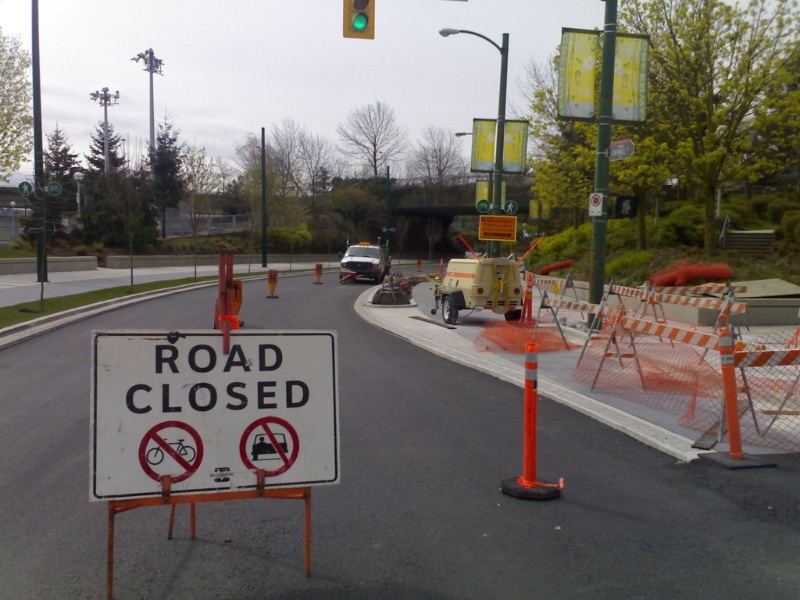green_light: (344, 8, 373, 34)
